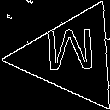M_S: (44, 30, 99, 83)
